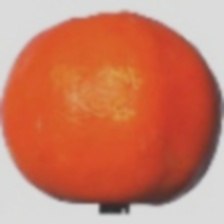tangerine: (61, 48, 196, 205)
